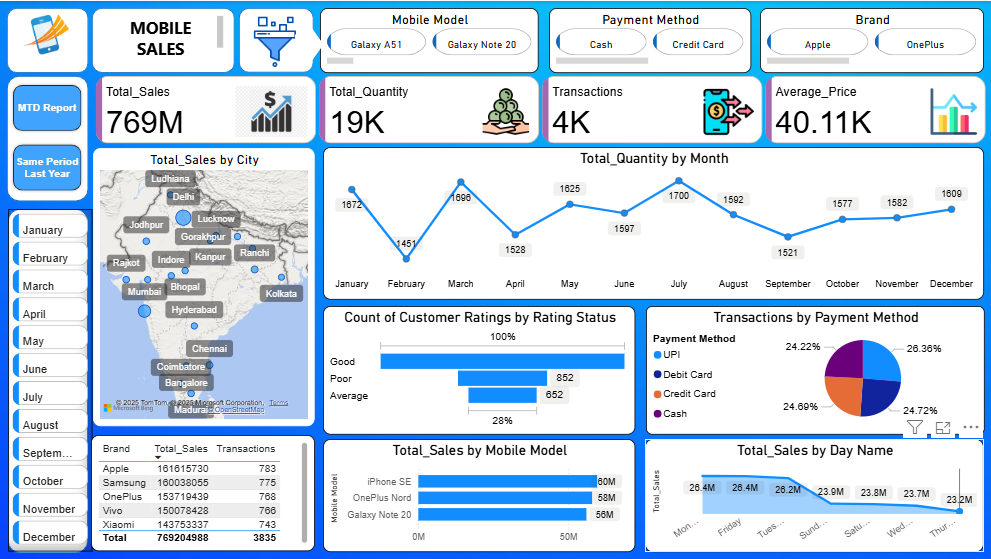

This screenshot's page, from the dashboard's own definition file:
{"tool":"powerbi","page":{"name":"Dashboard","canvas":[1280,720],"ordinal":0},"visuals":[{"type":"shape","box":[8.5,8.5,104.9,83.6],"z":0},{"type":"image","box":[8.6,8.6,100,70],"z":1000},{"type":"shape","box":[8.5,96.4,104.9,161.6],"z":2000},{"type":"shape","box":[9.9,267.9,103.5,443.6],"z":3000},{"type":"advancedSlicerVisual","fields":{"Values":["Custom_Calender.Date.Variation.Date Hierarchy.Month"]},"box":[9.9,267.9,109.1,442.2],"z":4000},{"type":"cardVisual","fields":{"Data":["Sales_Data.Total_Sales","Sales_Data.Total_Quantity","Sales_Data.Transactions","Sales_Data.Average_Price"]},"box":[118.6,91.4,1161.4,97.1],"z":5000},{"type":"advancedSlicerVisual","fields":{"Values":["Sales_Data.Mobile Model"]},"box":[412.4,8.5,282,83.6],"z":6000},{"type":"advancedSlicerVisual","fields":{"Values":["Sales_Data.Payment Method"]},"box":[708.7,8.5,260.8,83.6],"z":7000},{"type":"advancedSlicerVisual","fields":{"Values":["Sales_Data.Brand"]},"box":[980.8,8.5,289.1,83.6],"z":8000},{"type":"shape","box":[309,8.5,96.4,83.6],"z":9000},{"type":"image","box":[302.9,14.3,102.9,77.1],"z":10000},{"type":"shape","box":[380,30,37.1,52.9],"z":11000},{"type":"shape","box":[119.1,8.5,184.3,83.6],"z":12000},{"type":"textbox","box":[128.6,14.3,164.3,68.6],"z":13000},{"type":"map","fields":{"Category":["Sales_Data.City"],"Size":["Sales_Data.Total_Sales"]},"box":[120.5,189.9,286.3,358.6],"z":14000},{"type":"lineChart","fields":{"Category":["Custom_Calender.Date.Variation.Date Hierarchy.Month"],"Y":["Sales_Data.Total_Quantity"]},"box":[417.1,188.6,852.9,197.1],"z":15000},{"type":"funnel","fields":{"Category":["Sales_Data.Rating Status"],"Y":["CountNonNull(Sales_Data.Customer Ratings)"]},"box":[416.7,393.3,403.3,165.6],"z":16000},{"type":"pieChart","fields":{"Category":["Sales_Data.Payment Method"],"Y":["Sales_Data.Transactions"]},"box":[833.3,393.3,436.7,165.6],"z":17000},{"type":"clusteredBarChart","fields":{"Y":["Sales_Data.Total_Sales"],"Category":["Sales_Data.Mobile Model"]},"box":[417.1,565.7,402.9,145.7],"z":18000},{"type":"areaChart","fields":{"Category":["Custom_Calender.Day Name"],"Y":["Sales_Data.Total_Sales"]},"box":[832.9,565.7,437.1,145.7],"z":19000},{"type":"tableEx","fields":{"Values":["Sales_Data.Brand","Sales_Data.Total_Sales","Sales_Data.Transactions"]},"box":[117.6,559.8,289.1,150.2],"z":20000},{"type":"pageNavigator","box":[12.8,104.9,96.4,144.6],"z":21000}]}

Visuals, with their boxes in screenshot pixels (x1, y1, x2, y2), scaled from the page's 1280x720 canvas onto the 991x559 screenshot:
shape: <region>7, 7, 88, 72</region>
image: <region>7, 7, 84, 61</region>
shape: <region>7, 75, 88, 200</region>
shape: <region>8, 208, 88, 552</region>
advancedSlicerVisual - Custom_Calender.Date.Variation.Date Hierarchy.Month: <region>8, 208, 92, 551</region>
cardVisual - Sales_Data.Total_Sales x Sales_Data.Total_Quantity: <region>92, 71, 990, 146</region>
advancedSlicerVisual - Sales_Data.Mobile Model: <region>319, 7, 538, 72</region>
advancedSlicerVisual - Sales_Data.Payment Method: <region>549, 7, 751, 72</region>
advancedSlicerVisual - Sales_Data.Brand: <region>759, 7, 983, 72</region>
shape: <region>239, 7, 314, 72</region>
image: <region>235, 11, 314, 71</region>
shape: <region>294, 23, 323, 64</region>
shape: <region>92, 7, 235, 72</region>
textbox: <region>100, 11, 227, 64</region>
map - Sales_Data.City x Sales_Data.Total_Sales: <region>93, 147, 315, 426</region>
lineChart - Custom_Calender.Date.Variation.Date Hierarchy.Month x Sales_Data.Total_Quantity: <region>323, 146, 983, 299</region>
funnel - Sales_Data.Rating Status x CountNonNull(Sales_Data.Customer Ratings): <region>323, 305, 635, 434</region>
pieChart - Sales_Data.Payment Method x Sales_Data.Transactions: <region>645, 305, 983, 434</region>
clusteredBarChart - Sales_Data.Total_Sales x Sales_Data.Mobile Model: <region>323, 439, 635, 552</region>
areaChart - Custom_Calender.Day Name x Sales_Data.Total_Sales: <region>645, 439, 983, 552</region>
tableEx - Sales_Data.Brand x Sales_Data.Total_Sales: <region>91, 435, 315, 551</region>
pageNavigator: <region>10, 81, 85, 194</region>
